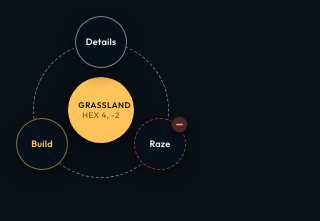
Test: RingMenu motion › layer swap › keeps the root bubbles until they have been pulled into the hub, then blooms the categories
Click the button with class "ring-bubble" showing "Build" at (42, 144), box 16,118 -> 68,170
Wait 194 ms
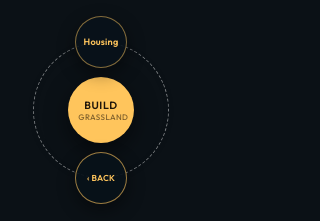
Now the button with class "ring-hub" shows "BUILD", box 68,77 -> 134,143
